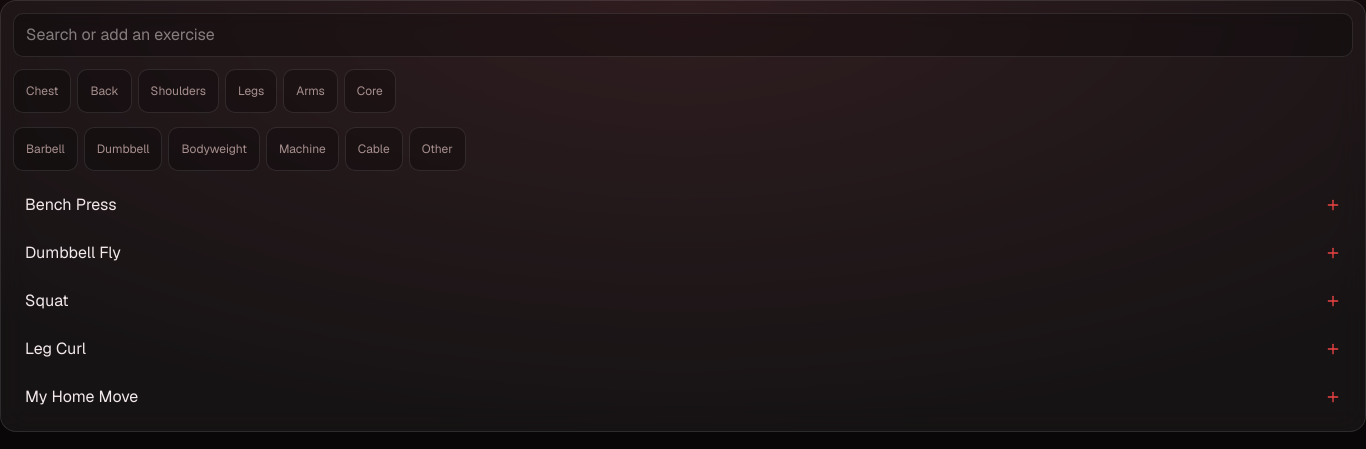
Test: ExercisePicker filters › points at the active filter when a full match is hidden by it and no create is offered
The width and height of the screenshot is (1366, 449).
Click the button "Chest" at (42, 91), box left=13, top=69, right=72, bottom=113
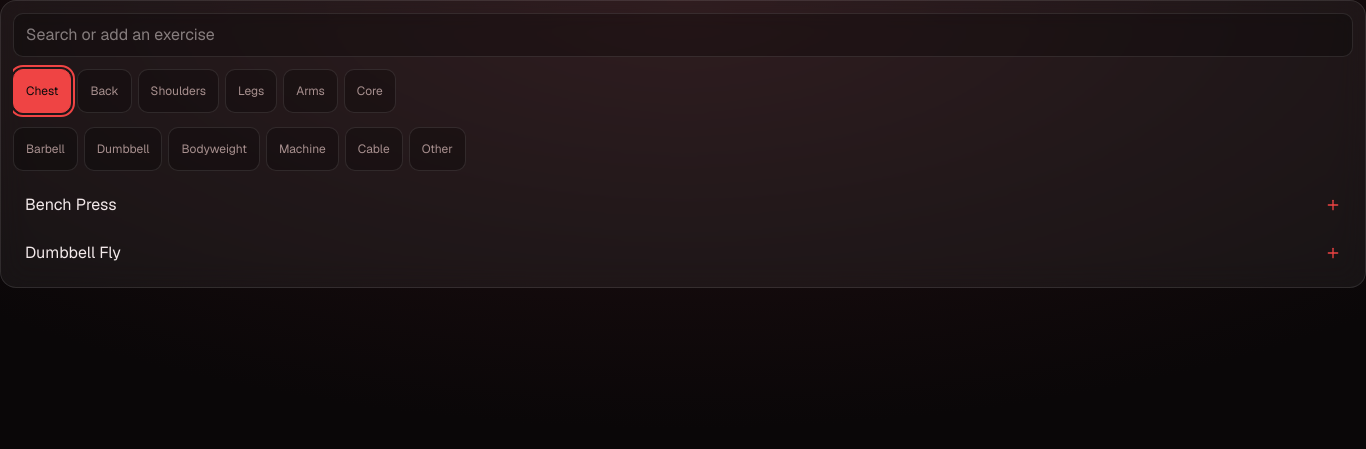
Type "squat" into the field with placeholder "Search or add an exercise" at (683, 35), box left=13, top=13, right=1353, bottom=57
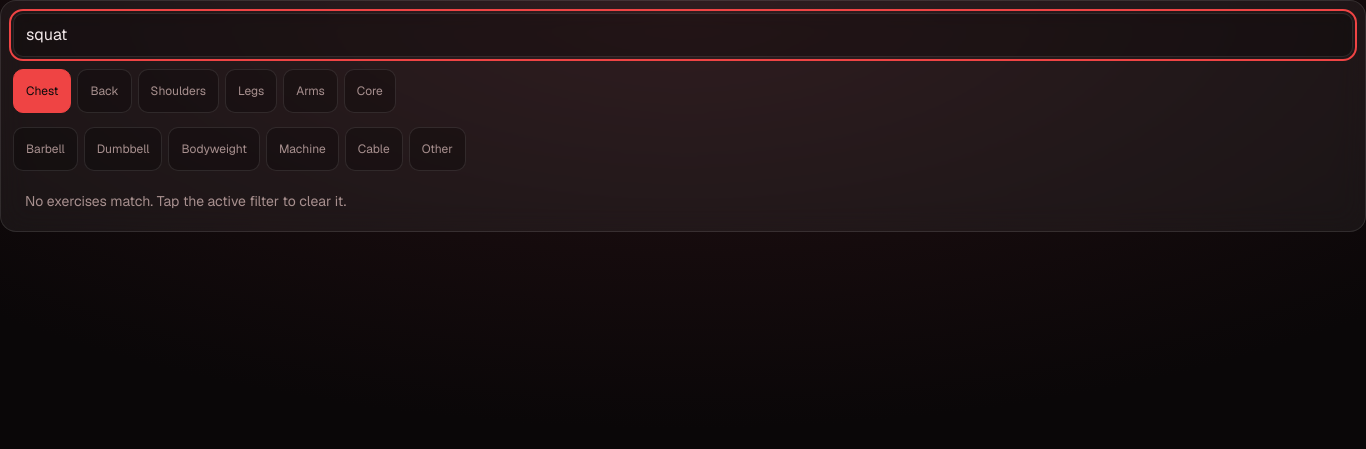
Result: the list item "No exercises match. Tap the active filter to clear it." is shown at left=25, top=192, right=346, bottom=210
